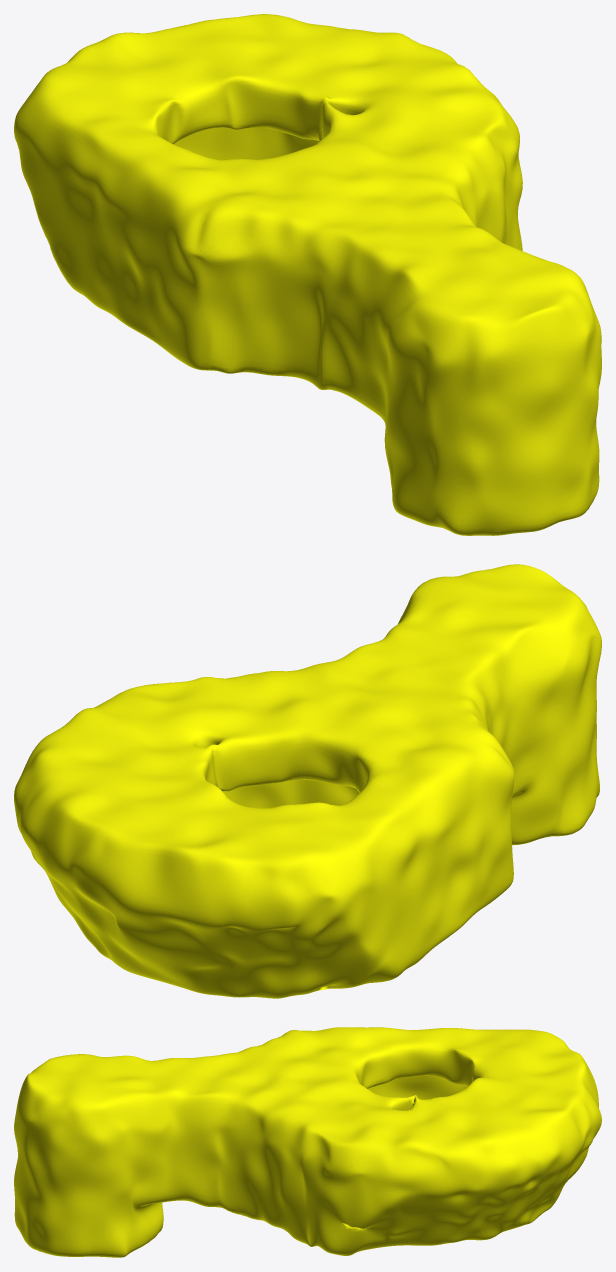
File: reel.obj
3 views of the same model, one above another, from view 1: azimuth 30°, elevation 25°; view 2: azimuth 150°, elevation 25°; view 3: azimuth 270°, elevation 25° (orthographic). The views are drawn at different scales.
Parts seen in each view (by area): view 1: reel; view 2: reel; view 3: reel.
Boxes of the visible parts, x1,y1,x2,y2 form: reel: (14,14,601,535); reel: (14,564,601,998); reel: (14,1027,601,1257).
Bounding box in the file's own units: 2.14 × 1.17 × 3.94.
